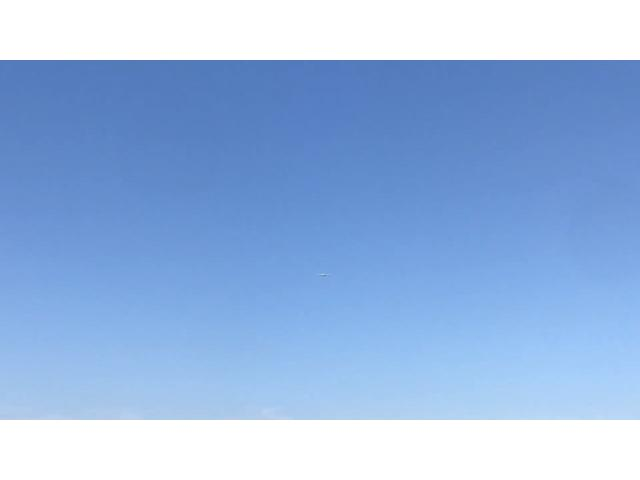Anti-Drone: (309, 267, 335, 281)
